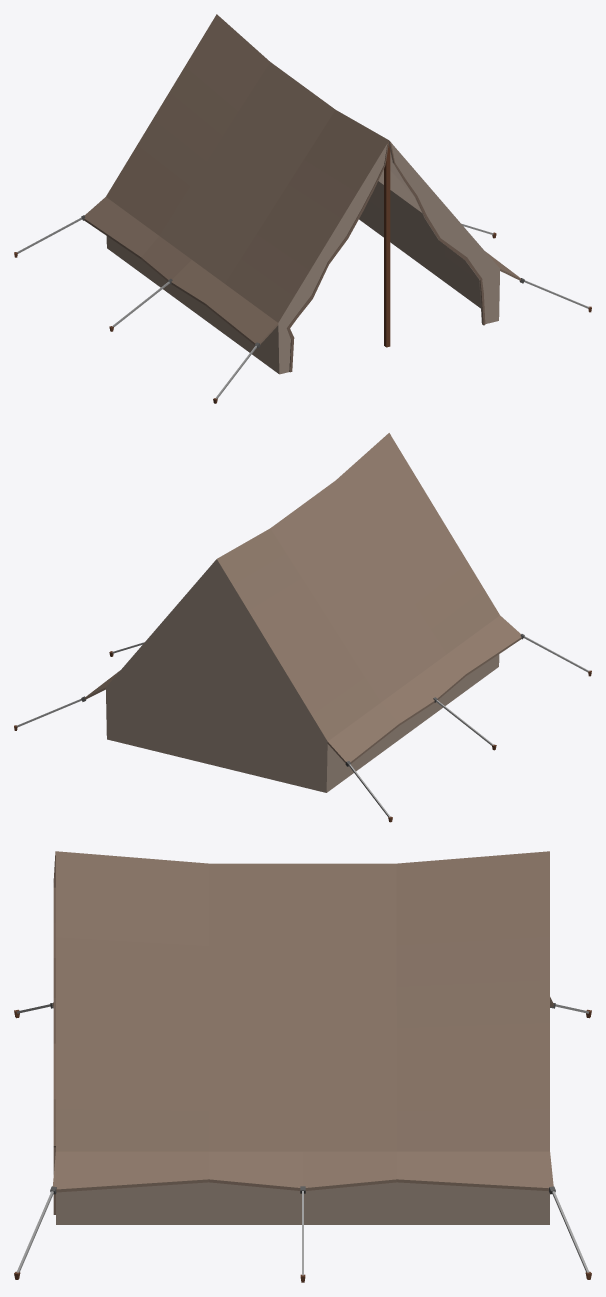
Rendered from Tent_06.fbx.
The picture shows the model from 3 angles, top to bottom: view 1: azimuth 30°, elevation 25°; view 2: azimuth 150°, elevation 25°; view 3: azimuth 270°, elevation 25°; orthographic projection. The views are drawn at different scales.
Parts seen in each view (by area): view 1: Tent_06; view 2: Tent_06; view 3: Tent_06.
Boxes of the visible parts, x1,y1,x2,y2 form: Tent_06: (14,14,591,403); Tent_06: (14,433,591,822); Tent_06: (14,851,591,1282).
Bounding box in the file's own units: 436 × 224 × 395.
